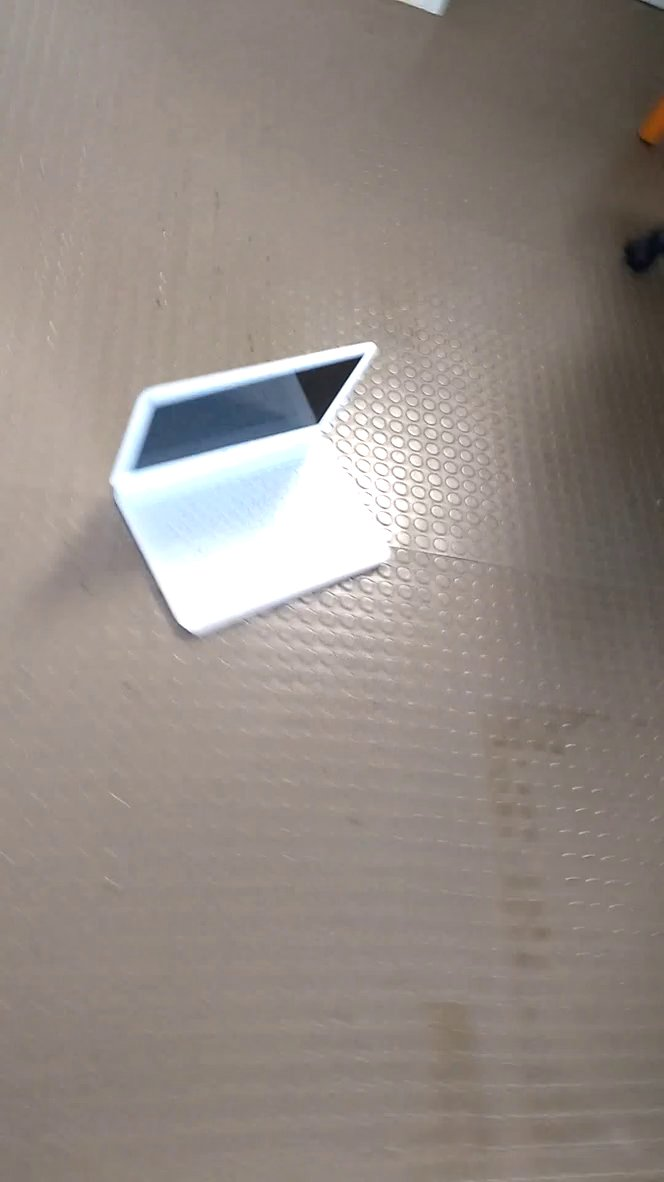laptop: (105, 329, 403, 657)
